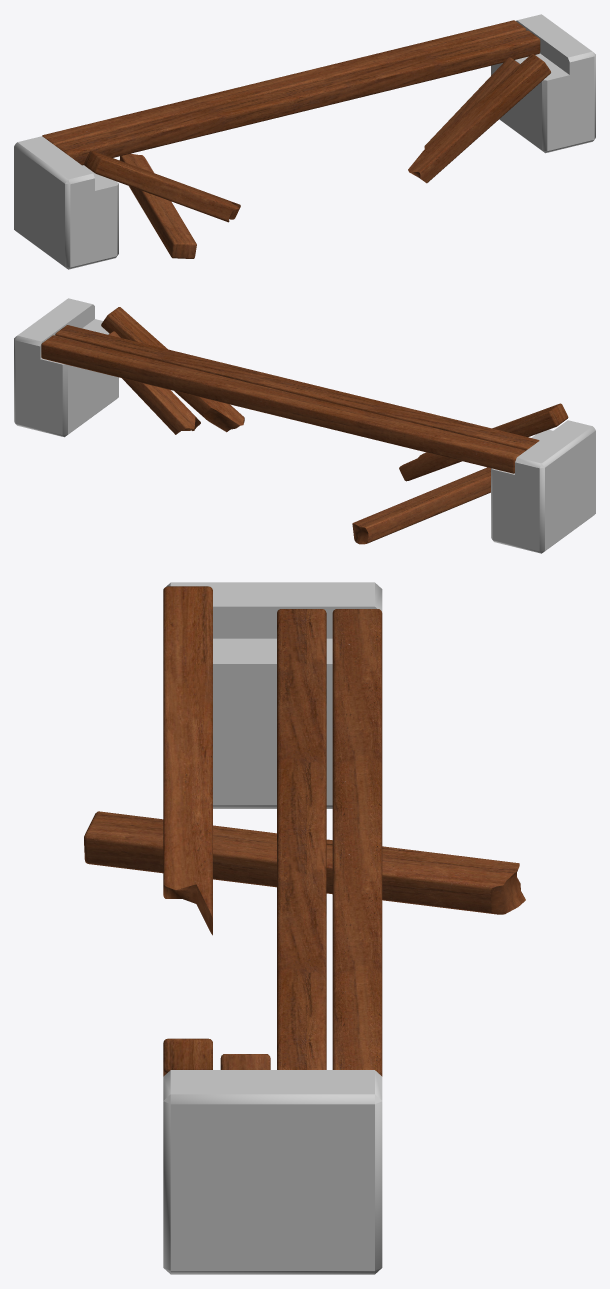
File: Bench01_3.FBX
The picture shows the model from 3 angles, top to bottom: view 1: azimuth 30°, elevation 25°; view 2: azimuth 150°, elevation 25°; view 3: azimuth 270°, elevation 25°; orthographic projection. The views are drawn at different scales.
Parts seen in each view (by area): view 1: Wood, Concrete; view 2: Wood, Concrete; view 3: Wood, Concrete.
Boxes of the visible parts, x1,y1,x2,y2 form: Wood: (42,20,550,258); Concrete: (14,14,595,269); Wood: (41,307,568,544); Concrete: (14,298,595,553); Wood: (84,586,525,1076); Concrete: (163,582,382,1274).
Size of the model in its own units: 97.05 by 18.22 by 35.01.
